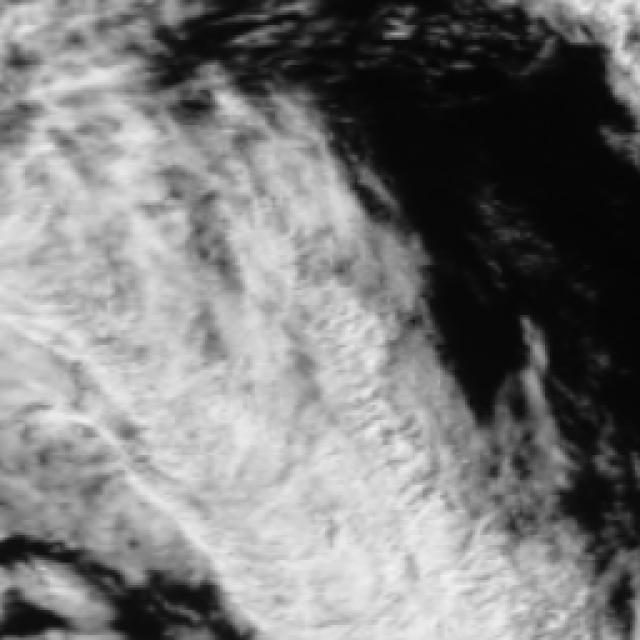CB: (272, 523, 460, 640)
